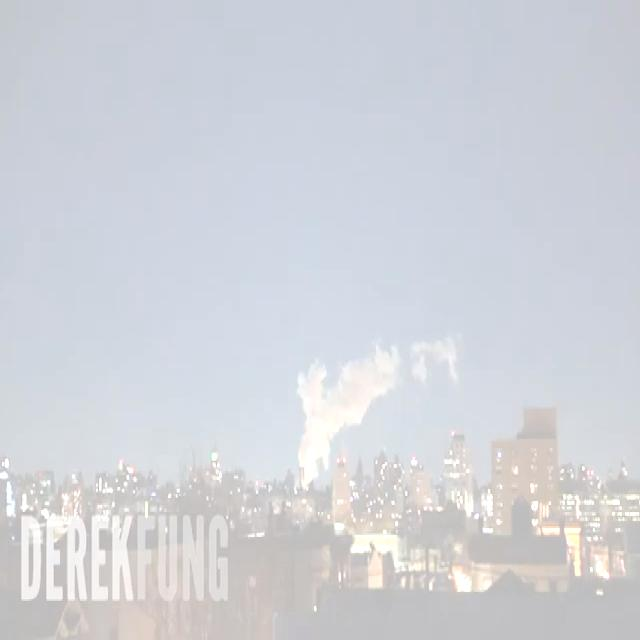smoke: (297, 343, 399, 478)
